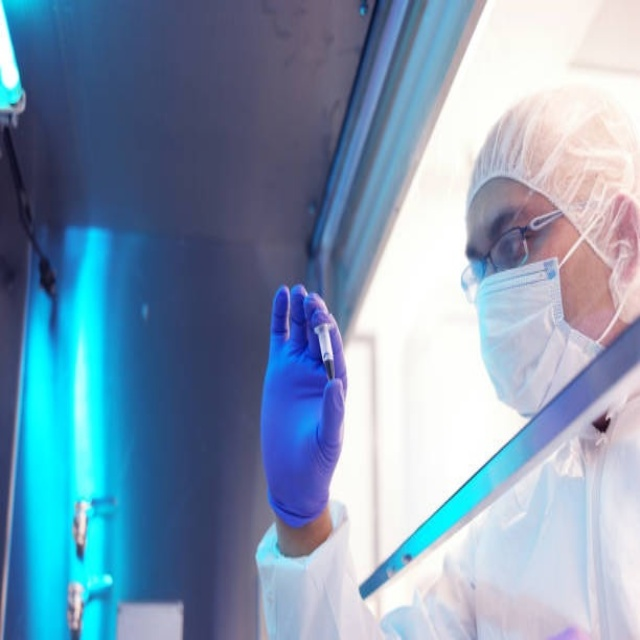Gafas: (459, 207, 564, 299)
Guantes: (260, 283, 347, 530), (540, 625, 591, 640)
Mascara: (470, 236, 618, 419)
